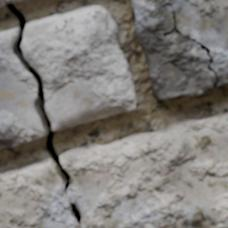brick: (132, 0, 227, 99)
broken_brick: (0, 110, 227, 227), (23, 5, 136, 132), (0, 31, 45, 150), (0, 0, 24, 8)
crack: (0, 2, 83, 225), (162, 9, 218, 91)
